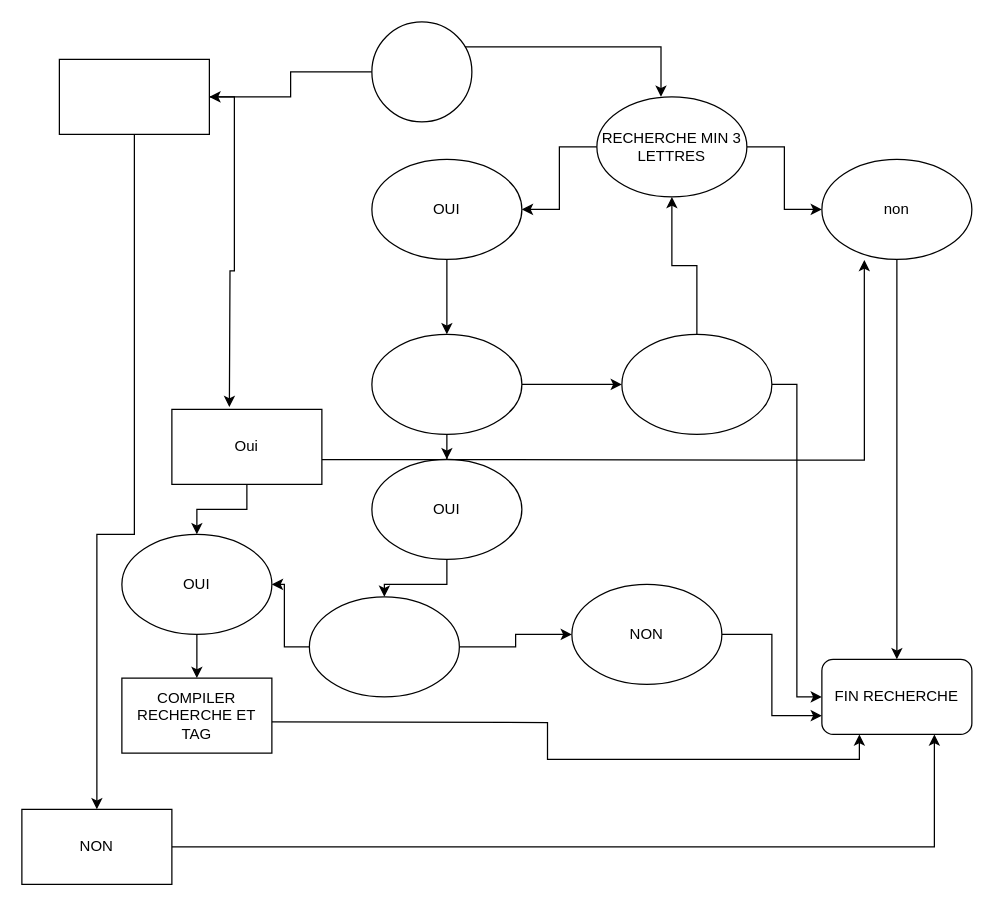
This 994x906 diagram has some shape labels left out. The centre of each missing label's shape, as x and y in pixels:
"NON RETENTER OU FIN" belongs at (696,383).
"RECHERCHE VALIDE" belongs at (446,383).
"SELECTION TAG" belongs at (133,96).
"START" belongs at (421,71).
"TAG PRESENT ?" belongs at (383,646).
